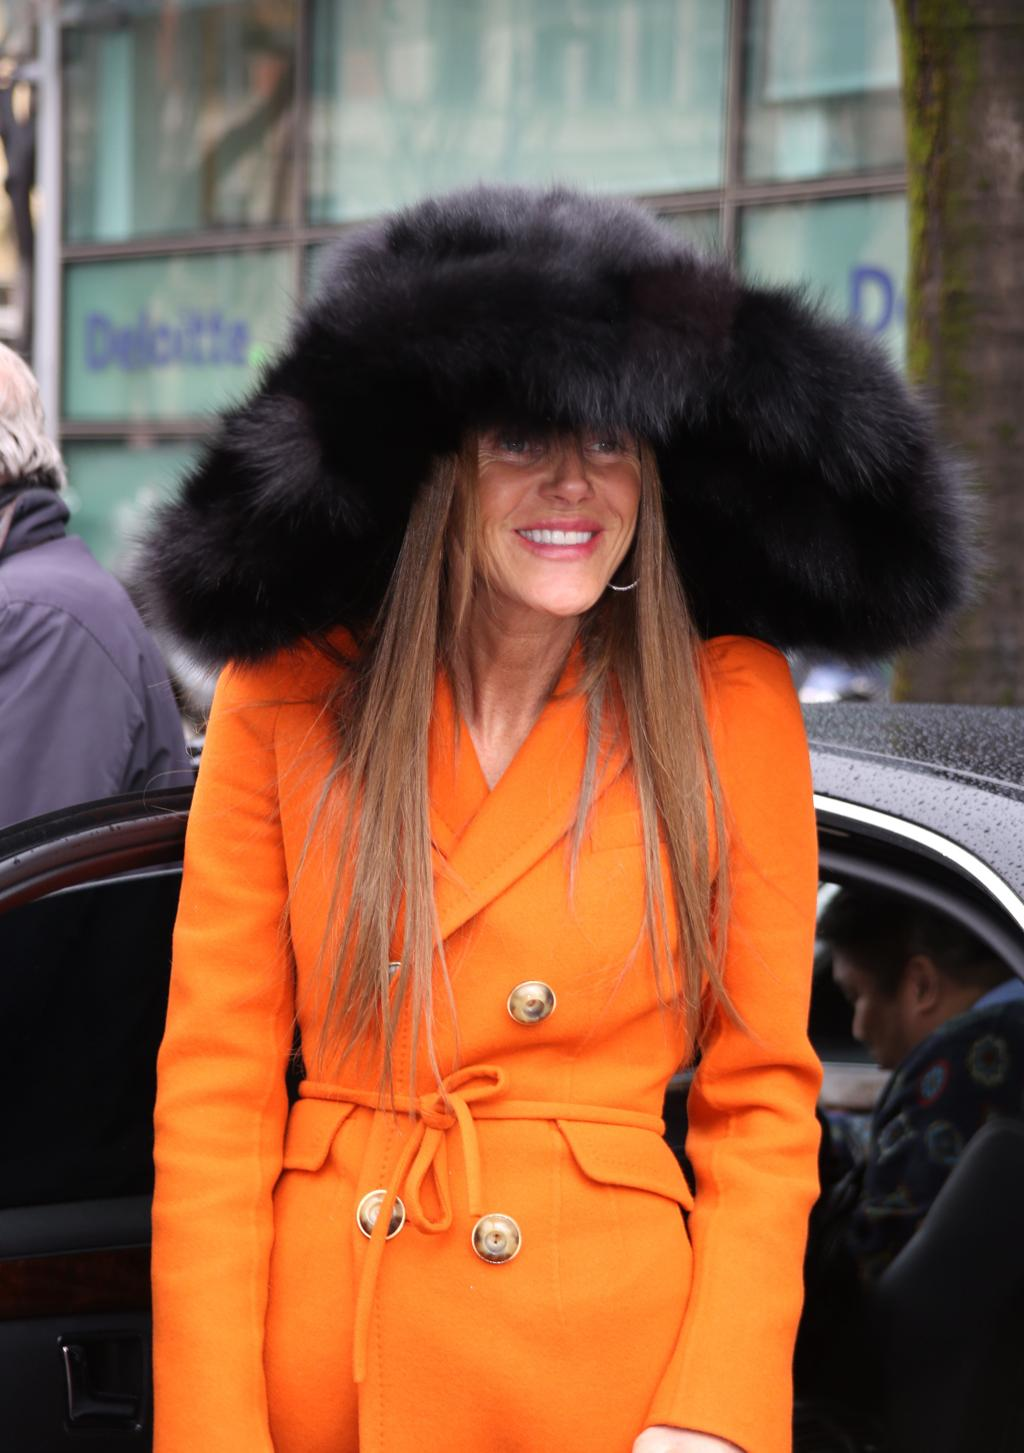face: (471, 377, 653, 607), (834, 919, 933, 1084)
